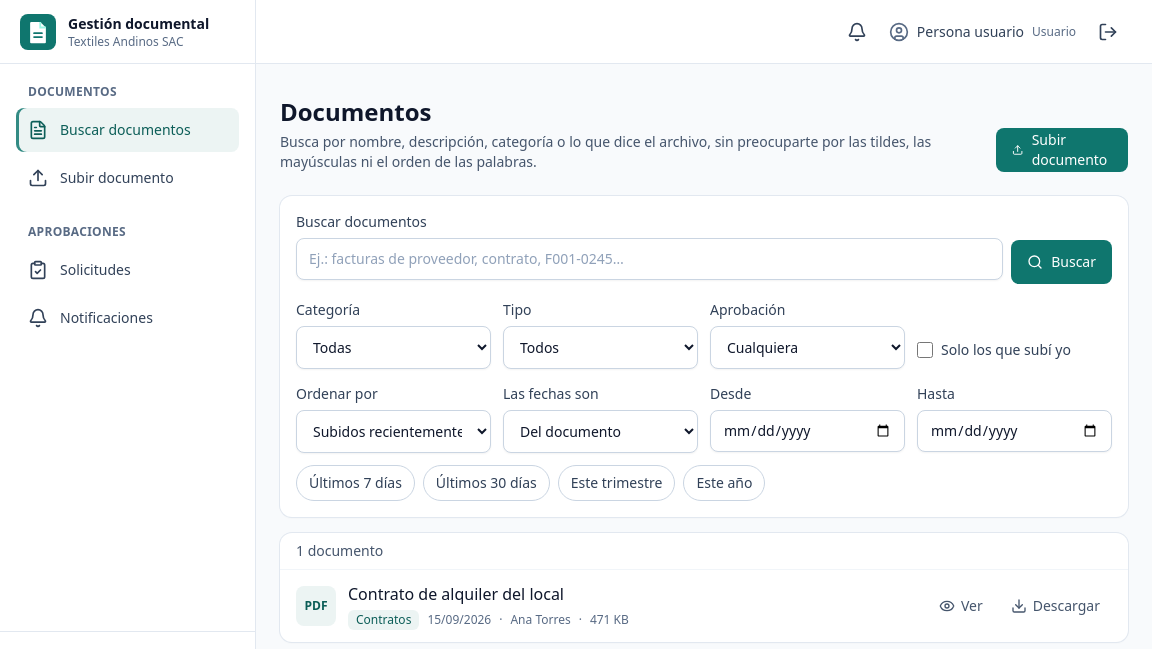
Test: Buscador de documentos (D42) › elegir tipo, aprobación y un atajo de fechas actualiza la búsqueda; el atajo queda marcado
Select "Imagen (foto o escaneo)" in the dropdown labelled "Tipo": x=600, y=348 503,326 -> 698,369
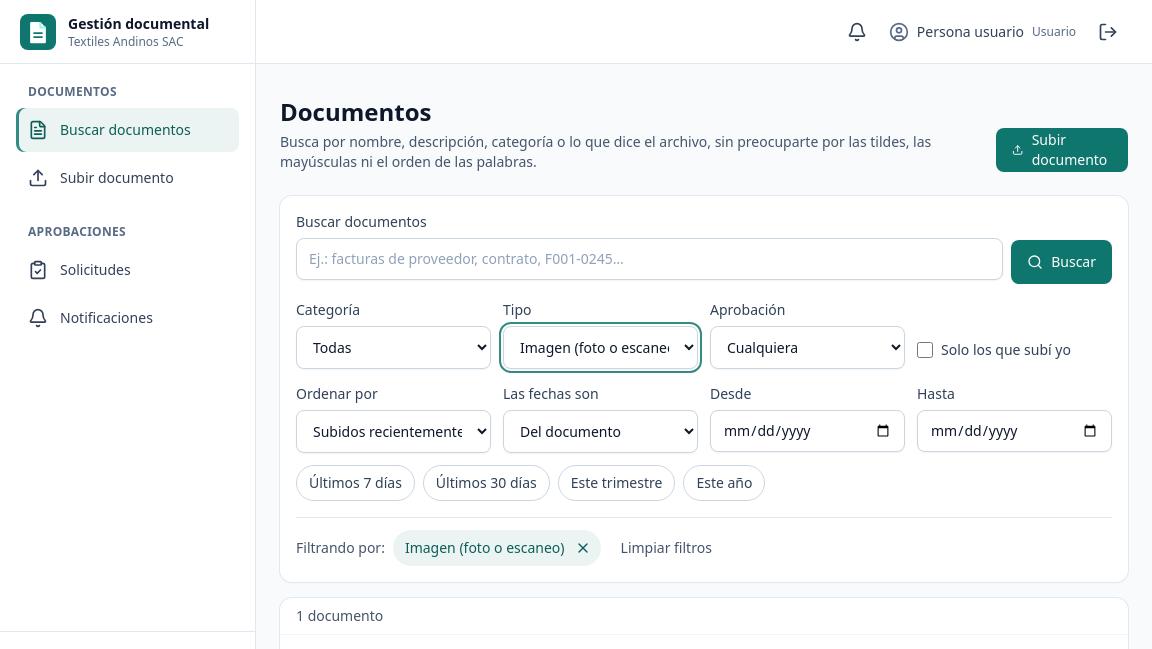
Select "Pendiente de aprobación" in the dropdown labelled "Aprobación": x=808, y=348 710,326 -> 905,369
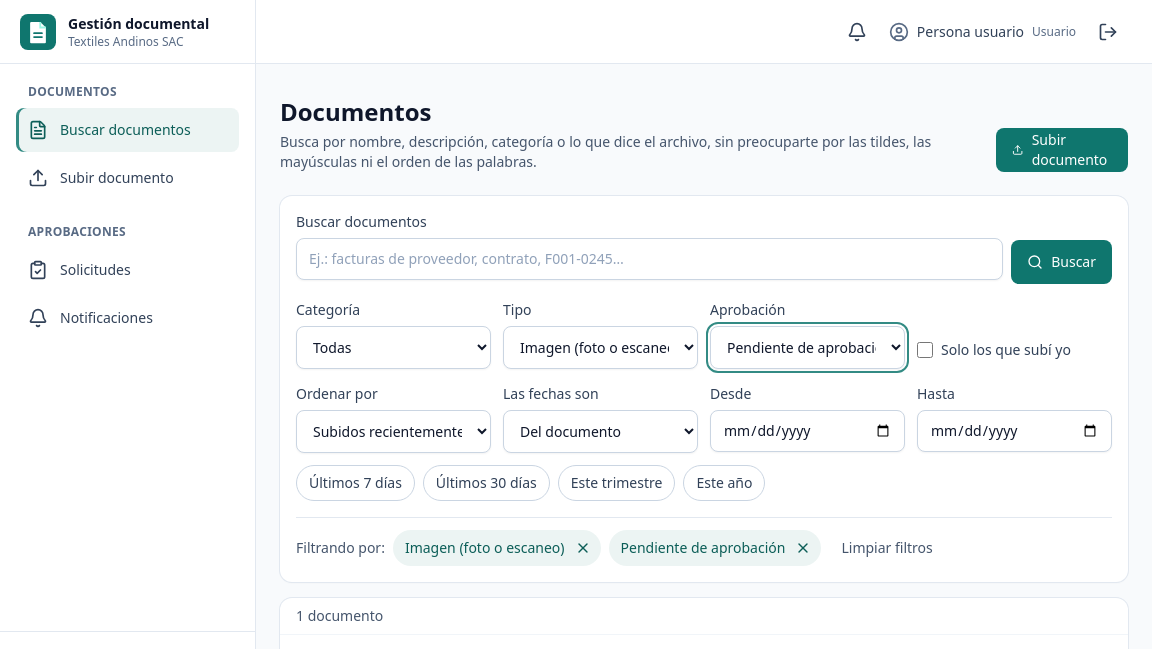
Click the button "Este año": x=724, y=483 683,465 -> 766,501
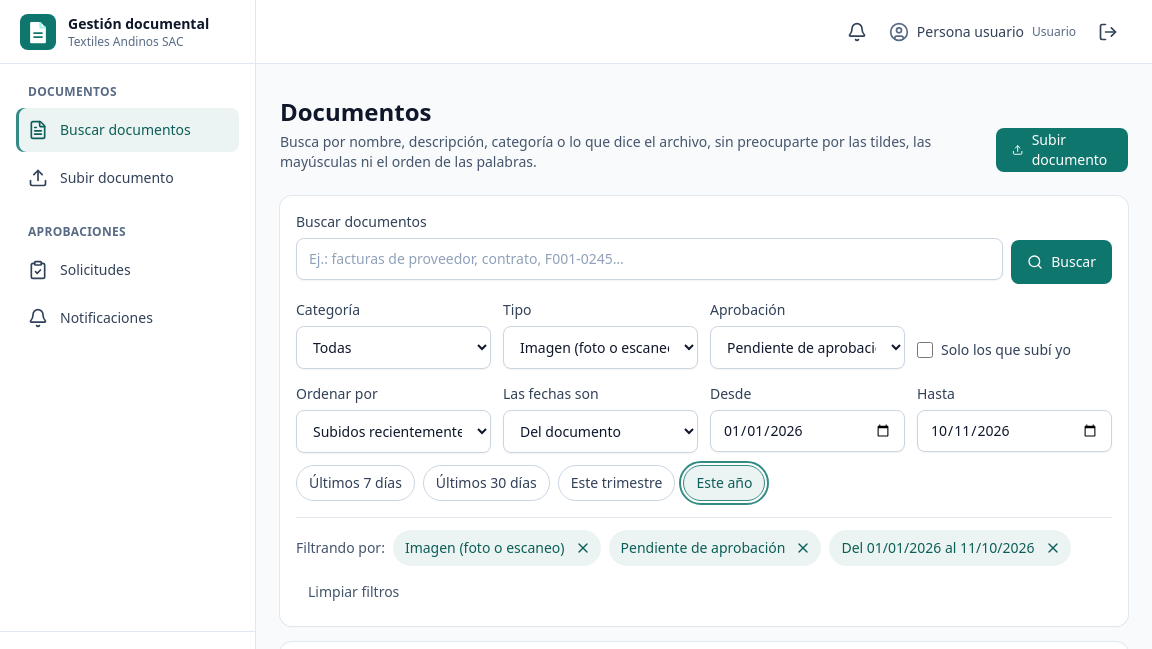
Now the button "Este año" is pressed, box 683,465 -> 766,501
Select "De subida al sistema" in the dropdown labelled "Las fechas son": x=600, y=432 503,410 -> 698,453
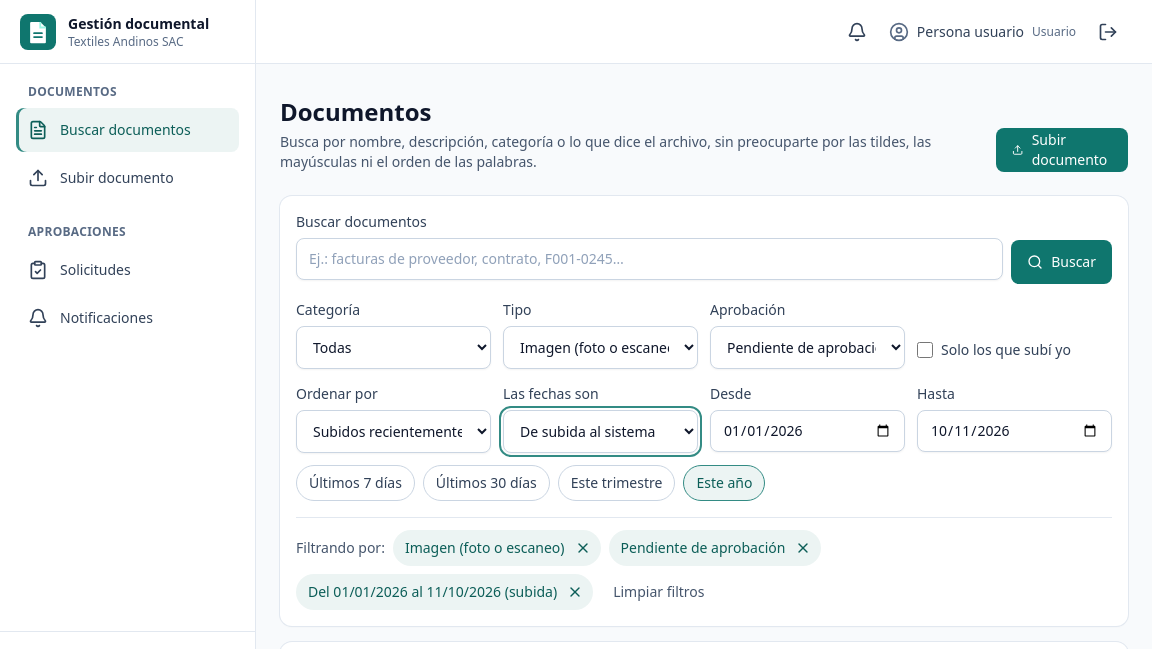
Now the text "Del 01/01/2026 al 11/10/2026 (subida)" is shown, box 296,574 -> 593,610
